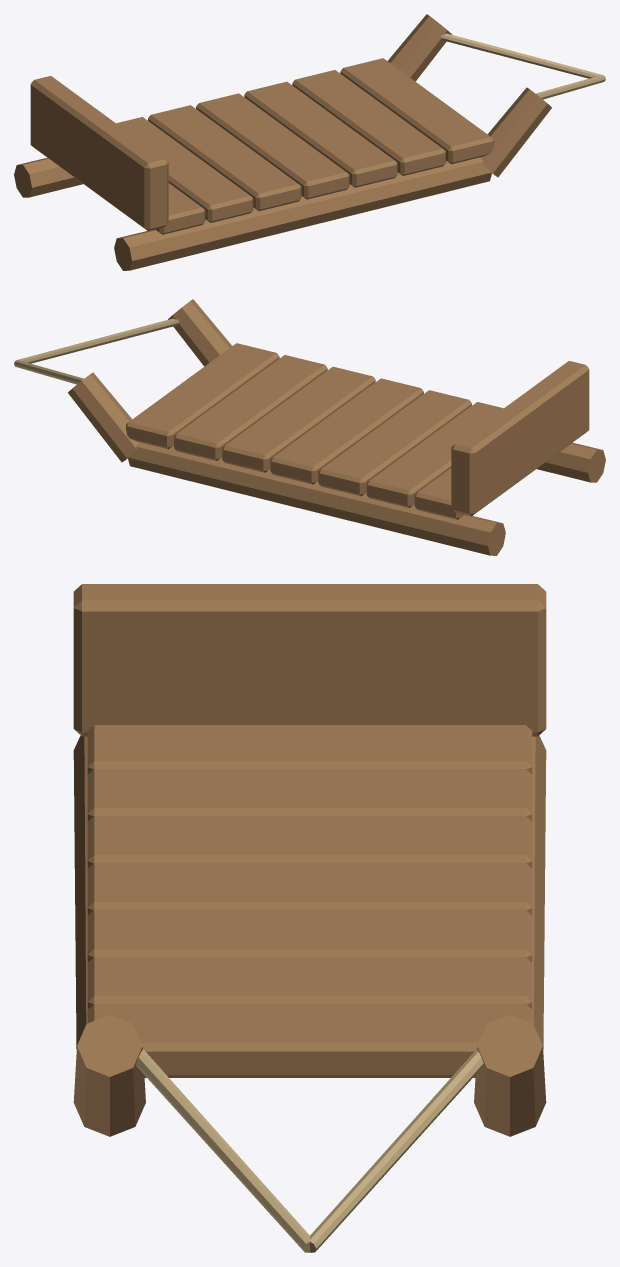
3 renders of one model, top to bottom at view 1: azimuth 30°, elevation 25°; view 2: azimuth 150°, elevation 25°; view 3: azimuth 270°, elevation 25°, orthographic. The views are drawn at different scales.
Visible parts, largest first — view 1: CE-040 Upturned timber shore cargo sled batched; view 2: CE-040 Upturned timber shore cargo sled batched; view 3: CE-040 Upturned timber shore cargo sled batched.
Part boxes in pixels (x1,y1,x2,y2): CE-040 Upturned timber shore cargo sled batched: [14, 14, 605, 270]; CE-040 Upturned timber shore cargo sled batched: [14, 299, 605, 555]; CE-040 Upturned timber shore cargo sled batched: [73, 584, 546, 1252].
Size of the model in its own units: 2.21 by 0.43 by 0.85.
